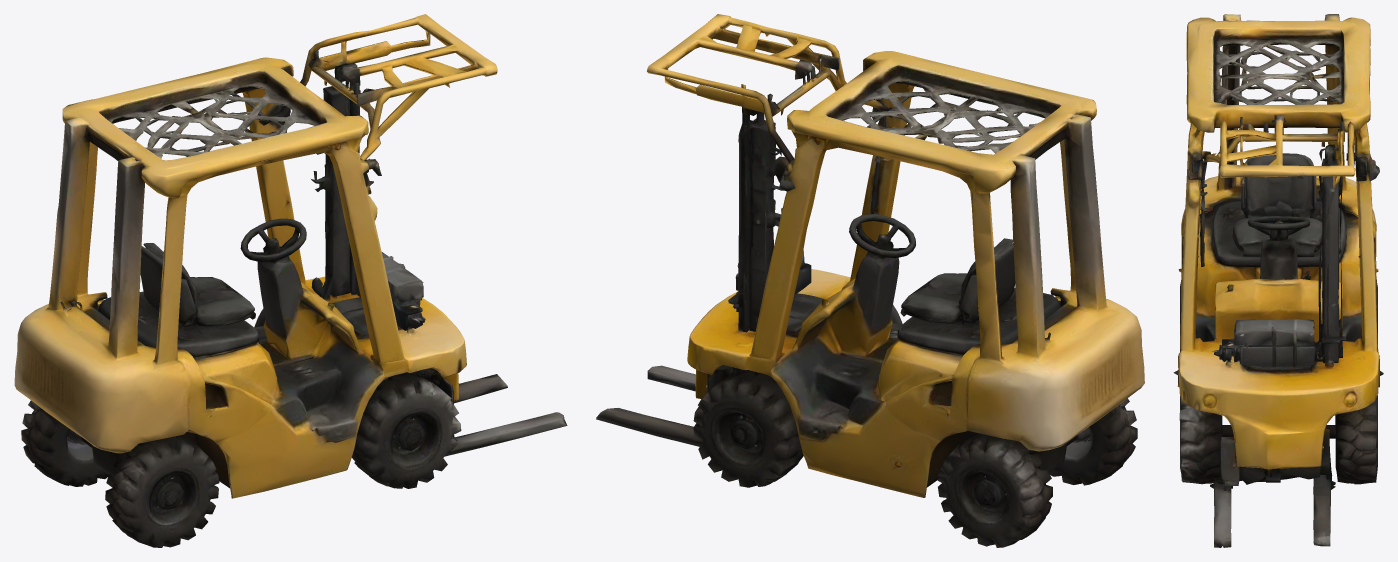
Rendered from forklift.glb.
3 views of the same model, side by side, from view 1: azimuth 30°, elevation 25°; view 2: azimuth 150°, elevation 25°; view 3: azimuth 270°, elevation 25° (orthographic). The views are drawn at different scales.
Visible parts, largest first — view 1: tripo_node_d20aeb28-5727-47d3-8f53-26c10fea9311; view 2: tripo_node_d20aeb28-5727-47d3-8f53-26c10fea9311; view 3: tripo_node_d20aeb28-5727-47d3-8f53-26c10fea9311.
Boxes of the visible parts, x1,y1,x2,y2 form: tripo_node_d20aeb28-5727-47d3-8f53-26c10fea9311: (14, 14, 567, 547); tripo_node_d20aeb28-5727-47d3-8f53-26c10fea9311: (596, 14, 1144, 547); tripo_node_d20aeb28-5727-47d3-8f53-26c10fea9311: (1173, 14, 1383, 547).
Size of the model in its own units: 1 by 0.7568 by 0.4021.
Materials: 1 (1 with a texture image).
